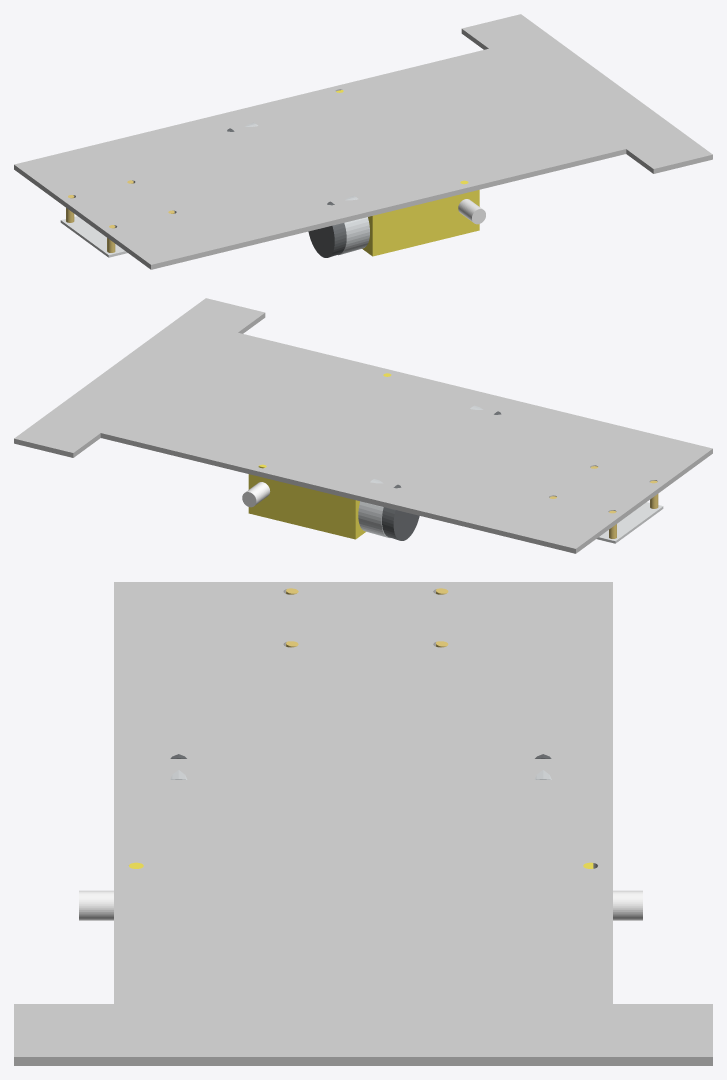
The model's file is Robot compositeLarge.dae.
3 renders of one model, top to bottom at view 1: azimuth 30°, elevation 25°; view 2: azimuth 150°, elevation 25°; view 3: azimuth 270°, elevation 25°, orthographic. The views are drawn at different scales.
Visible parts, largest first — view 1: obj_0; view 2: obj_0; view 3: obj_0.
Part boxes in pixels (x1,y1,x2,y2): obj_0: [14, 14, 712, 269]; obj_0: [14, 298, 712, 553]; obj_0: [14, 582, 712, 1065].
Size of the model in its own units: 2.25 by 1.4 by 0.2035.
